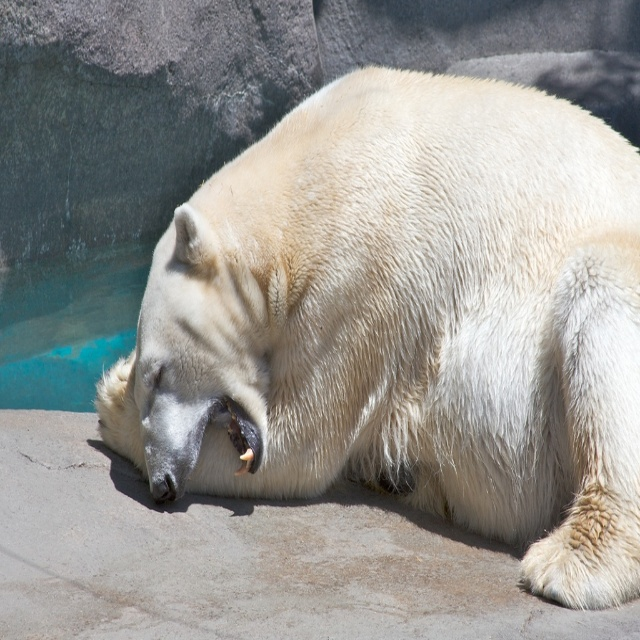Polar bear: (91, 61, 640, 607)
